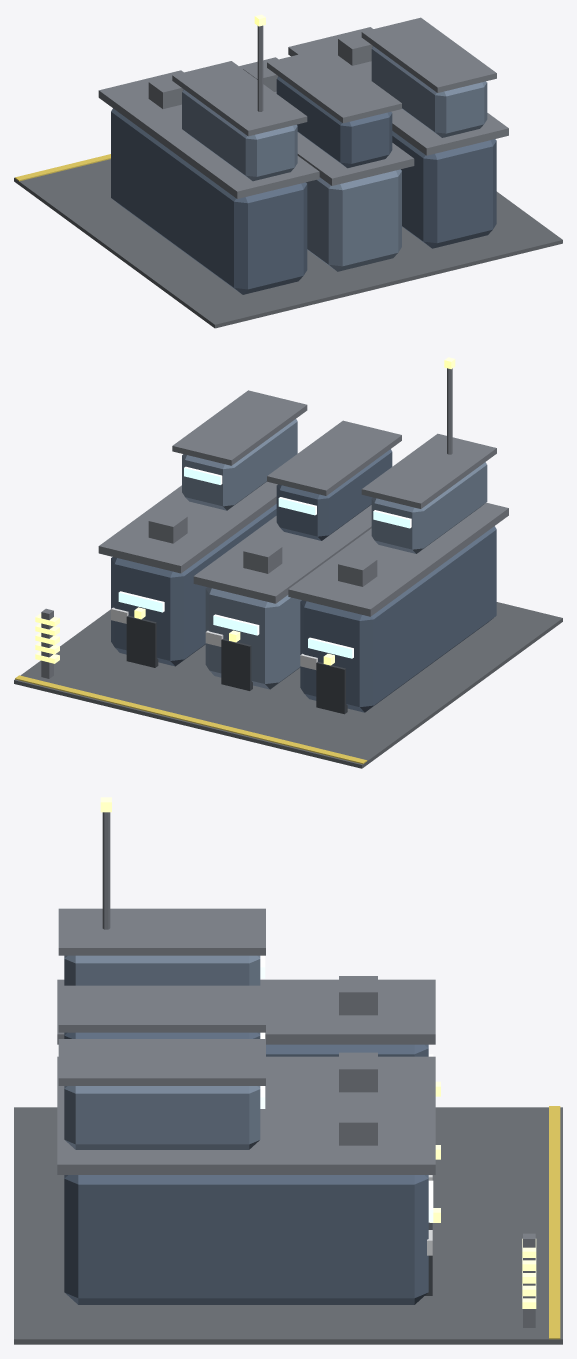
File: zone_low_4_t5.glb
3 views of the same model, one above another, from view 1: azimuth 30°, elevation 25°; view 2: azimuth 150°, elevation 25°; view 3: azimuth 270°, elevation 25° (orthographic). The views are drawn at different scales.
Parts seen in each view (by area): view 1: zone_low_4_t5, detail; view 2: zone_low_4_t5, detail; view 3: zone_low_4_t5, detail.
Boxes of the visible parts, x1,y1,x2,y2 form: zone_low_4_t5: (14,17,562,328); detail: (15,14,372,181); zone_low_4_t5: (14,390,562,768); detail: (15,357,455,764); zone_low_4_t5: (14,908,562,1344); detail: (100,797,560,1339).
Bounding box in the file's own units: 19.6 × 14.4 × 19.6.
